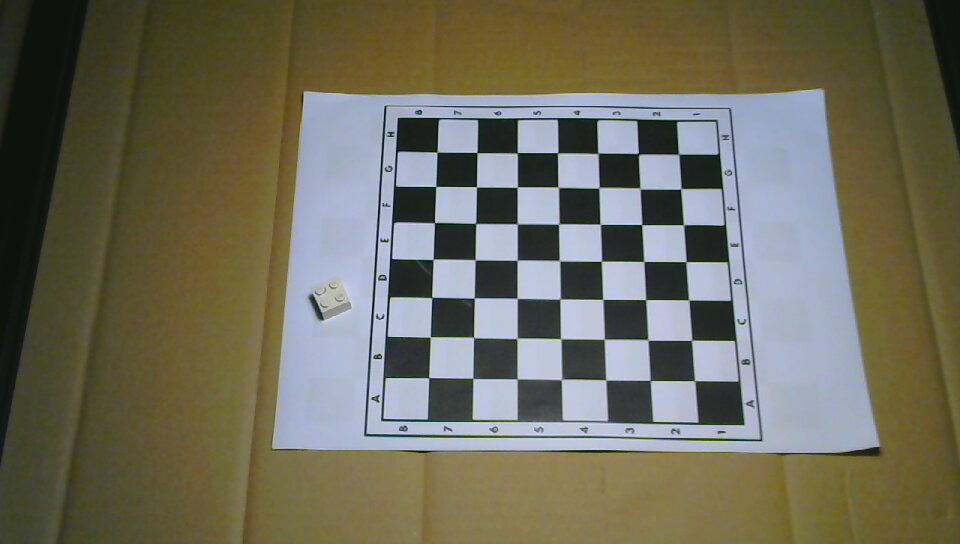wp: (311, 278, 352, 321)
